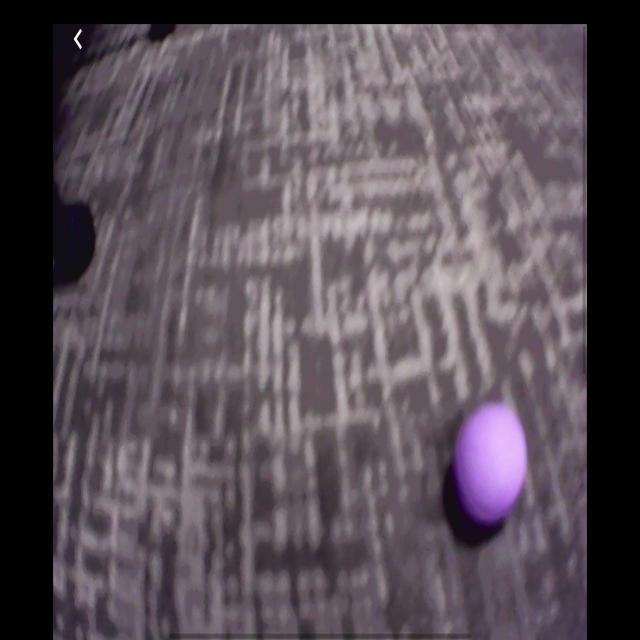ball: (453, 400, 530, 527)
